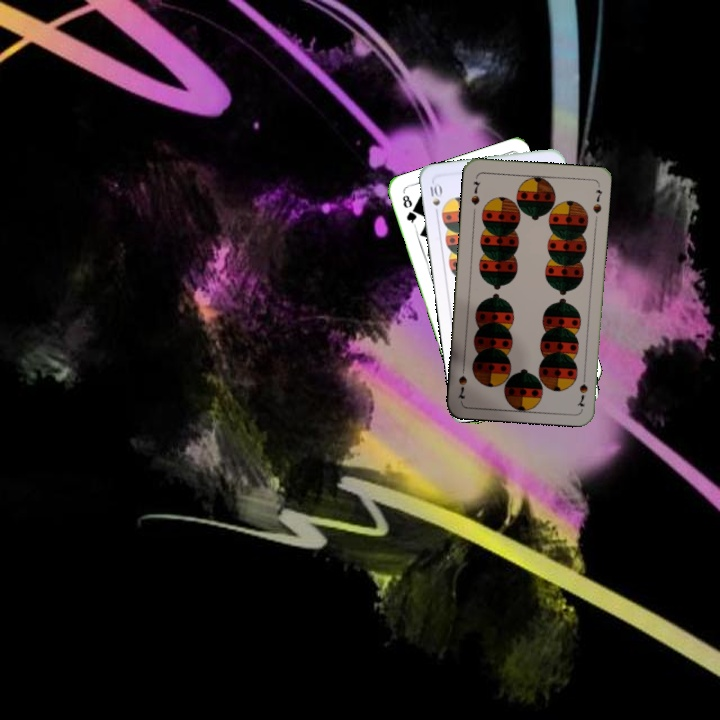G8: (398, 191, 419, 229)
S10: (425, 179, 444, 208)
S7: (573, 370, 590, 409), (467, 177, 483, 207)
